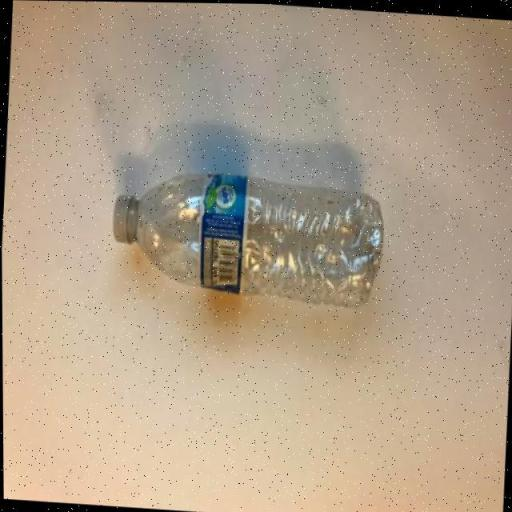plastic: (115, 173, 382, 305)
